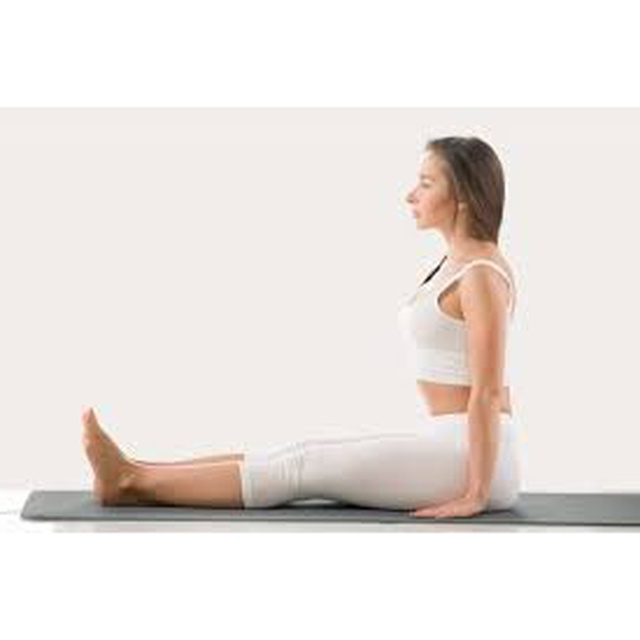Staff_Pose: (81, 135, 522, 521)
